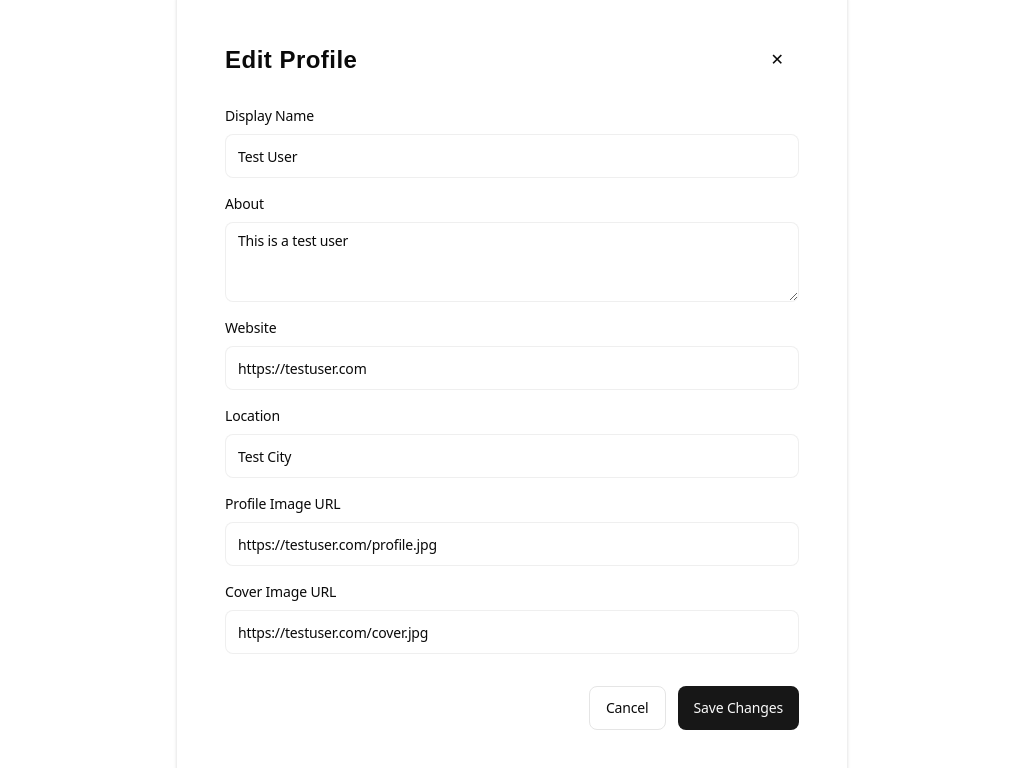
it: EditProfileModal › shows error message when profile update fails
Click the button "Save Changes" at (738, 708), box [678,686,799,730]
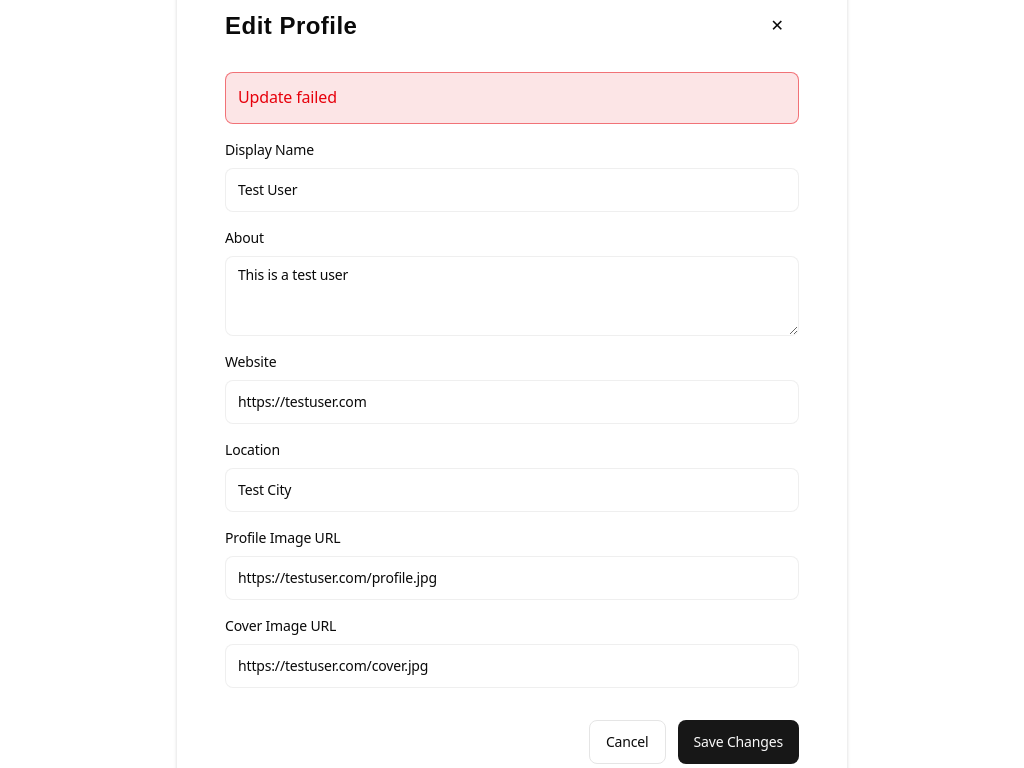
Result: the text "Update failed" is shown at [225,72,799,124]
